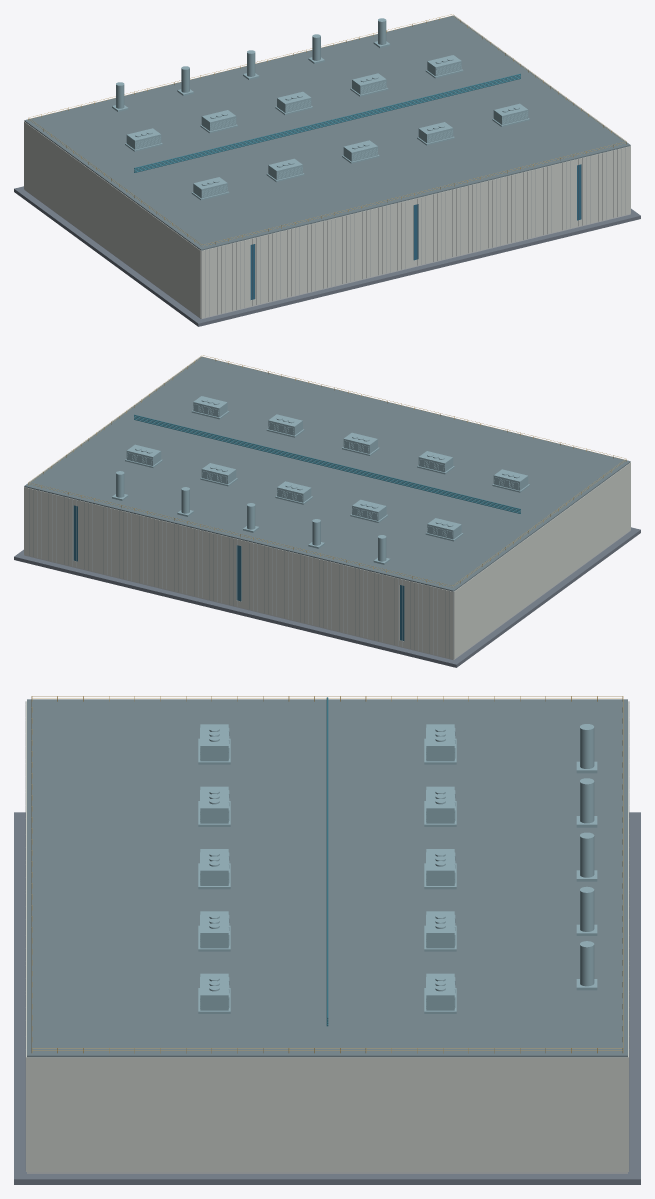
Rendered from LAB.glb.
The picture shows the model from 3 angles, top to bottom: view 1: azimuth 30°, elevation 25°; view 2: azimuth 150°, elevation 25°; view 3: azimuth 270°, elevation 25°; orthographic projection. The views are drawn at different scales.
Parts seen in each view (by area): view 1: LAB; view 2: LAB; view 3: LAB.
Boxes of the visible parts, x1,y1,x2,y2 form: LAB: (14,14,640,326); LAB: (14,355,640,667); LAB: (14,696,640,1184).
Size of the model in its own units: 169 by 35.6 by 122.
